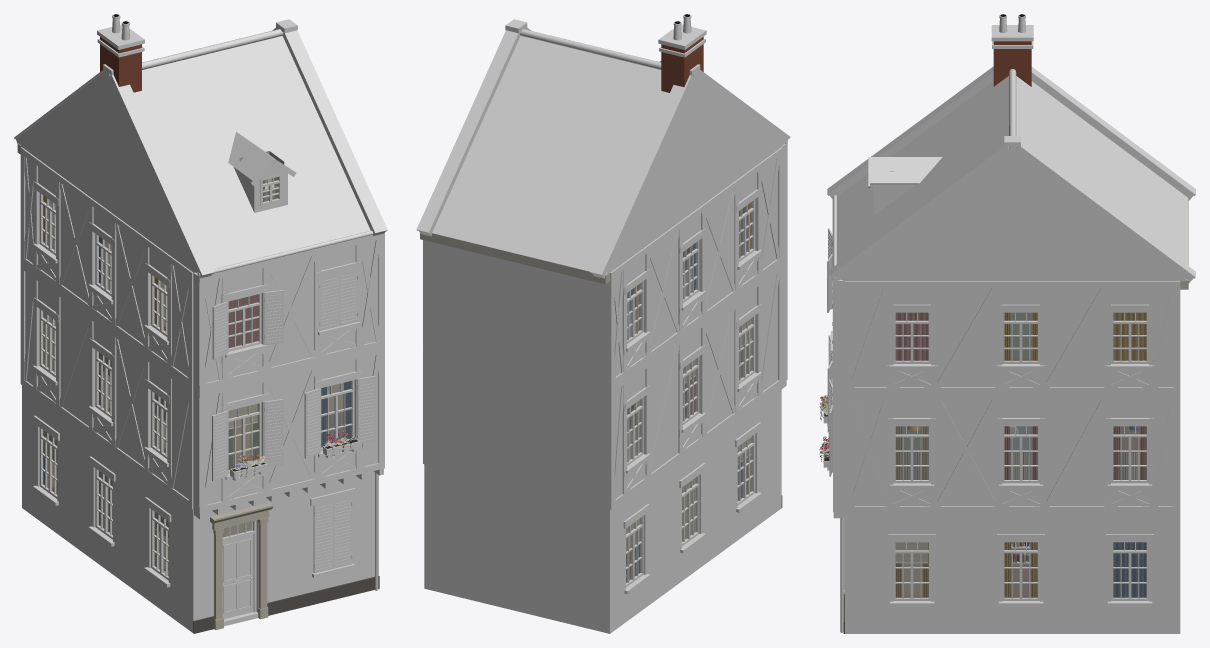
Rendered from GateStreet_BehindOuter1.glb.
The picture shows the model from 3 angles, left to right: view 1: azimuth 30°, elevation 25°; view 2: azimuth 150°, elevation 25°; view 3: azimuth 270°, elevation 25°; orthographic projection. The views are drawn at different scales.
Parts seen in each view (by area): view 1: GateStreet_BehindOuter1; view 2: GateStreet_BehindOuter1; view 3: GateStreet_BehindOuter1.
Part boxes in pixels (x1,y1,x2,y2): GateStreet_BehindOuter1: (14, 14, 387, 633); GateStreet_BehindOuter1: (416, 14, 790, 633); GateStreet_BehindOuter1: (819, 14, 1195, 633).
Size of the model in its own units: 5.18 by 14.12 by 8.99.
